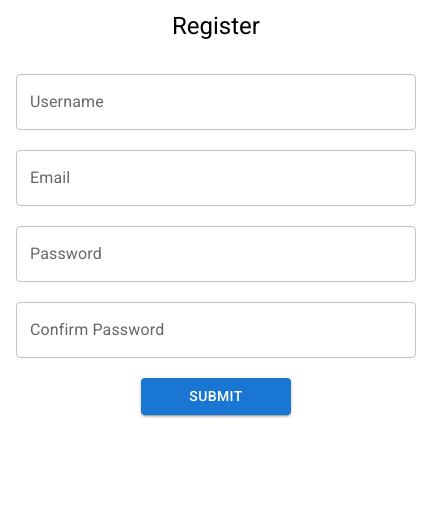
Scenario: RegisterPage › deve validar o campo de senha
Type "senha123" into the password field labelled "Password" at (216, 254), box left=16, top=226, right=416, bottom=282
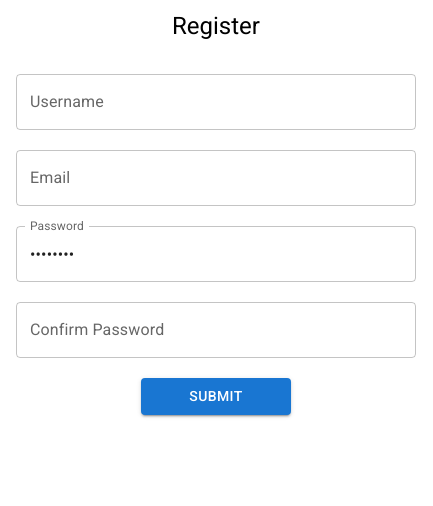
Type "senhaDiferente" into the password field labelled "Confirm Password" at (216, 330), box left=16, top=302, right=416, bottom=358
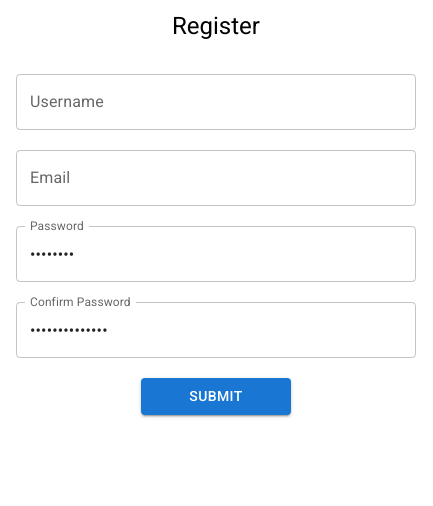
Click the button "Submit" at (216, 396), box left=141, top=378, right=291, bottom=414
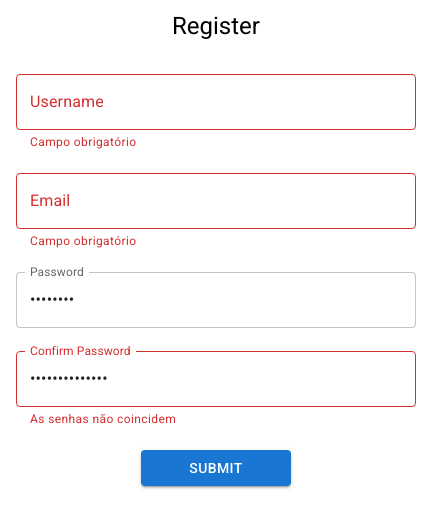
Expected: the text "As senhas não coincidem" is shown, left=30, top=412, right=176, bottom=426
